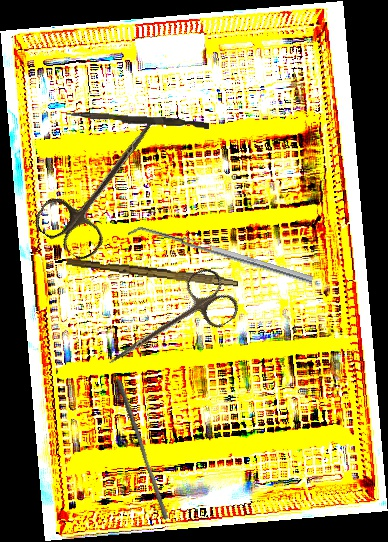Iris Scissors: (30, 96, 179, 266), (94, 262, 244, 391)
Pusher: (110, 378, 174, 521), (65, 111, 210, 129)
Scalpel Handle: (65, 256, 240, 288)
Spatula Surgical: (127, 221, 314, 291)
